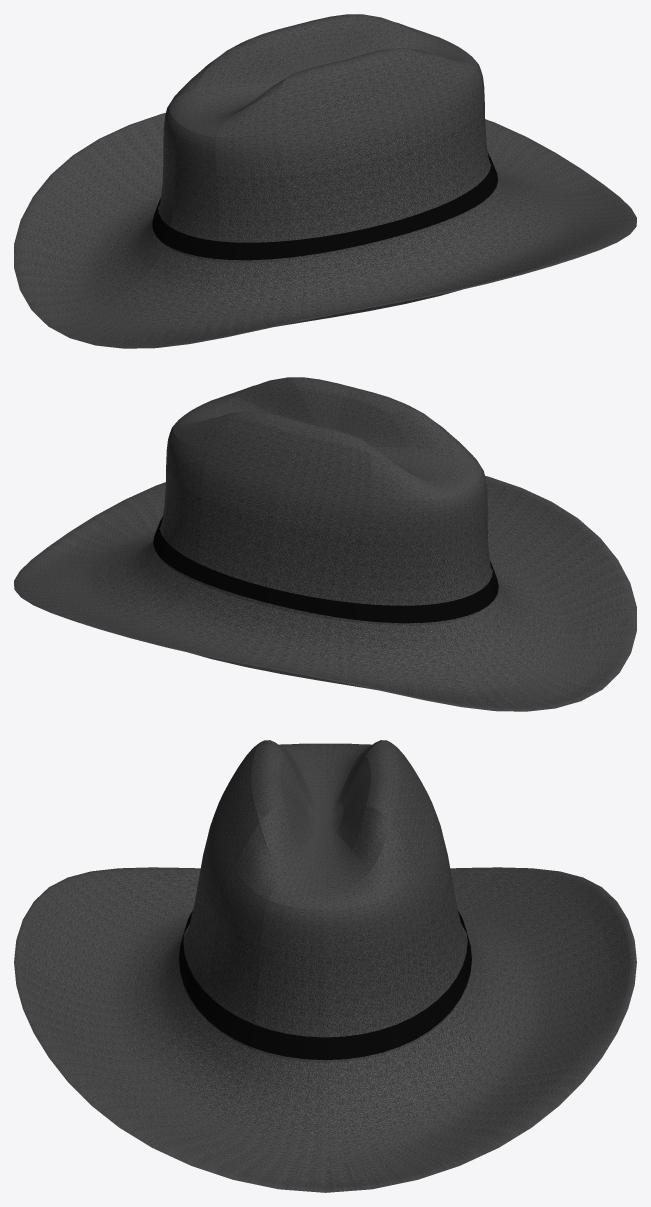
File: cowboy_hat.FBX
3 views of the same model, one above another, from view 1: azimuth 30°, elevation 25°; view 2: azimuth 150°, elevation 25°; view 3: azimuth 270°, elevation 25° (orthographic). The views are drawn at different scales.
Parts seen in each view (by area): view 1: Circle.001, Circle_Non; view 2: Circle.001, Circle_Non; view 3: Circle.001, Circle_Non.
Part boxes in pixels (x1,y1,x2,y2): Circle.001: (14,14,636,348); Circle_Non: (152,153,497,260); Circle.001: (14,377,636,711); Circle_Non: (153,516,498,623); Circle.001: (14,740,636,1192); Circle_Non: (179,910,471,1060).
Size of the model in its own units: 10.74 by 4.03 by 8.57.
2 materials, 1 textured.
